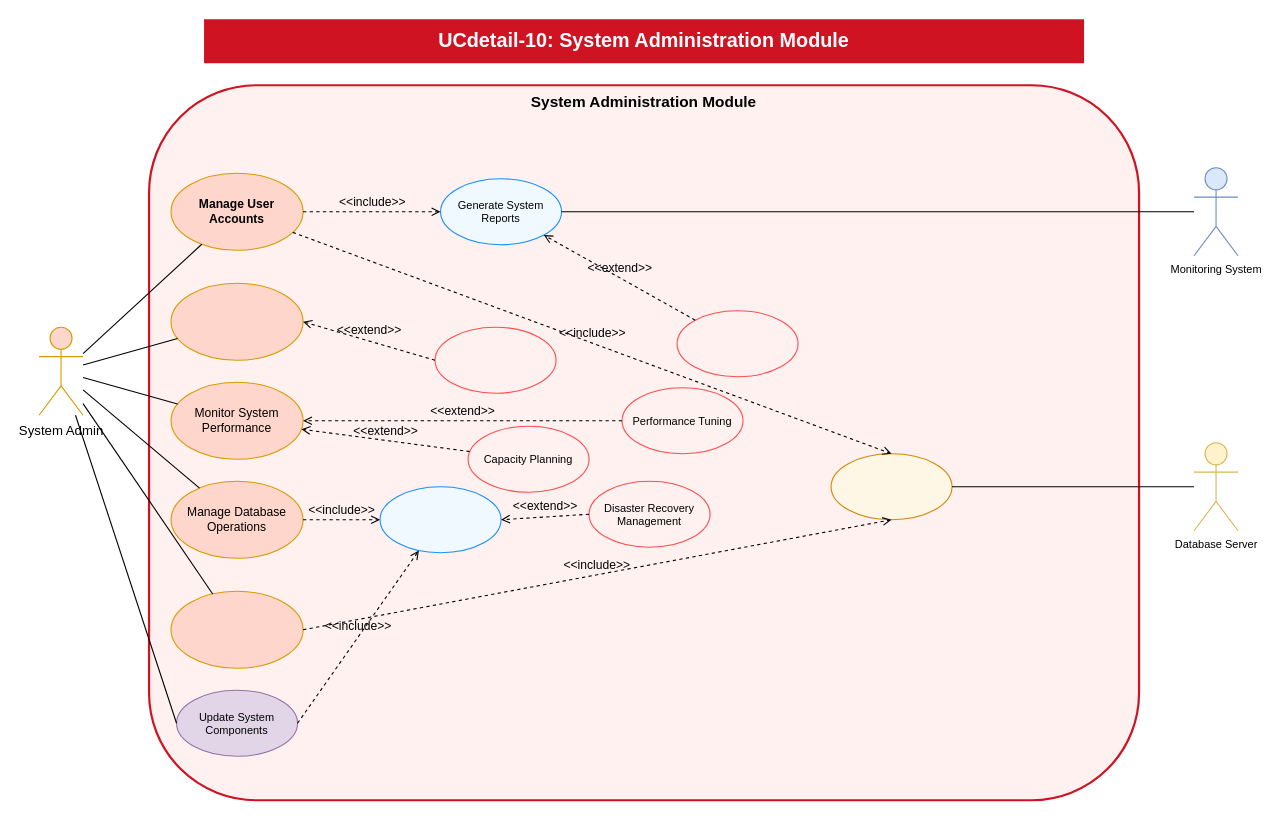
Some shapes in this 1280 by 820 pixel diagram are drawn without their labels. Each missing label, with the box of its shape:
Audit & Compliance: (676, 310, 798, 377)
Automation Scripts Management: (434, 326, 556, 393)
Backup System Data: (379, 486, 501, 553)
Configure System Settings: (170, 282, 303, 360)
Maintain System Logs: (830, 453, 952, 520)
Security Management: (170, 590, 303, 668)
